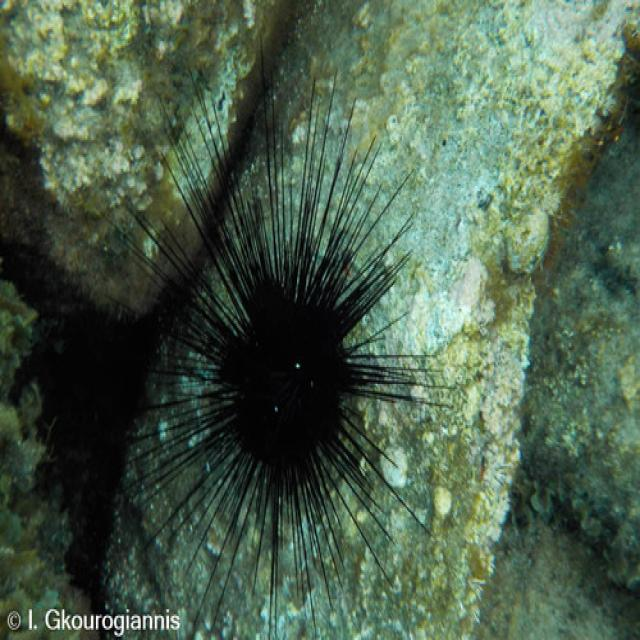Urchin: (110, 44, 463, 628)
